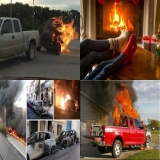fire: (113, 83, 139, 128), (51, 17, 79, 54), (107, 7, 135, 32), (7, 125, 26, 147), (60, 93, 78, 111), (140, 142, 153, 151)
